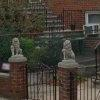Statue: (50, 34, 81, 70)
